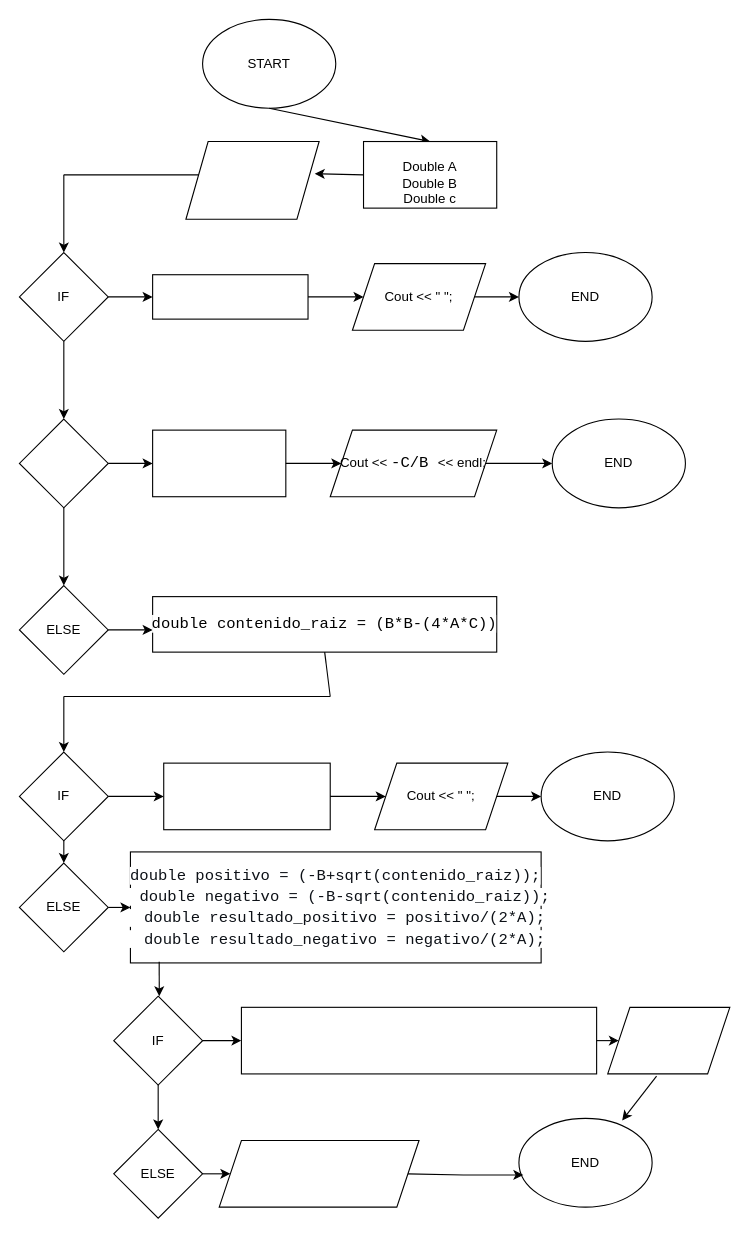
Some shapes in this 749 by 1238 pixel diagram are drawn without their labels. The shapes that lost their labels are listed below. From the top down, each one's centre as x and y in pixels, then its label:
At (252,179): "CIN Double A Double B Double c".
At (230,296): "A == 0 && B == 0".
At (63,463): "ELSE IF".
At (219,463): "(A == 0)".
At (246,796): "contenido_raiz < 0".
At (418,1040): "resultado_positivo == resultado_negativo".
At (668,1040): "COUT resultado positivo".
At (318,1173): "COUT resultado_positivo y resultado_negativo".
